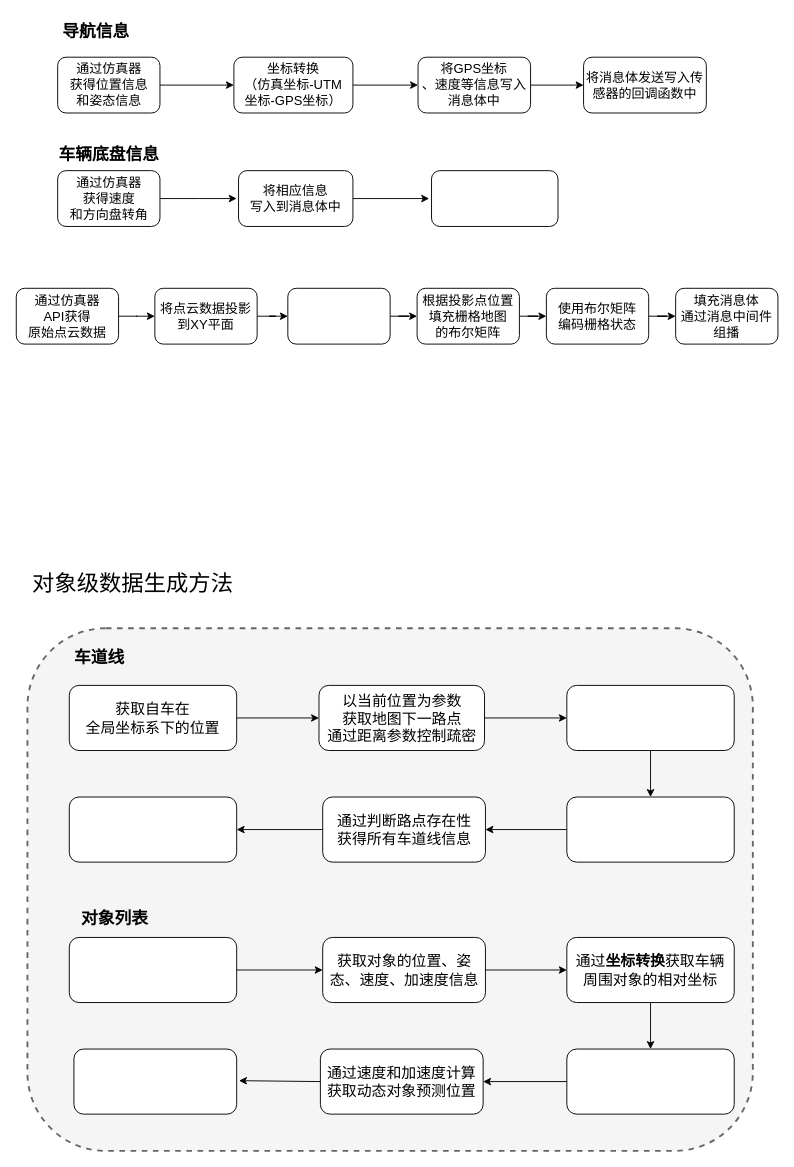
Some shapes in this 794 by 1167 pixel diagram are drawn without their labels. The shapes that lost their labels are listed below. From the top down, each one's box as (x1, y1, x2, y2) in pixels, then its label:
(431, 170, 558, 226): 使用同步方式 发送
(287, 287, 390, 344): 对测量点进行 高度过滤
(566, 684, 734, 751): 循环调用路点获取方法 得到当前车道路点列表
(68, 796, 237, 862): 将车道信息装入消息体 通过消息中间件组播
(566, 796, 734, 862): 以路点列表为参数 通过路点偏移获得车道线
(68, 937, 237, 1003): 通过仿真器获取场景内 所有动态对象列表
(73, 1048, 237, 1114): 将对象信息转入消息体 通过消息中间件组播
(566, 1048, 734, 1114): 通过对象的包围盒信息 获取对象角点相对坐标
